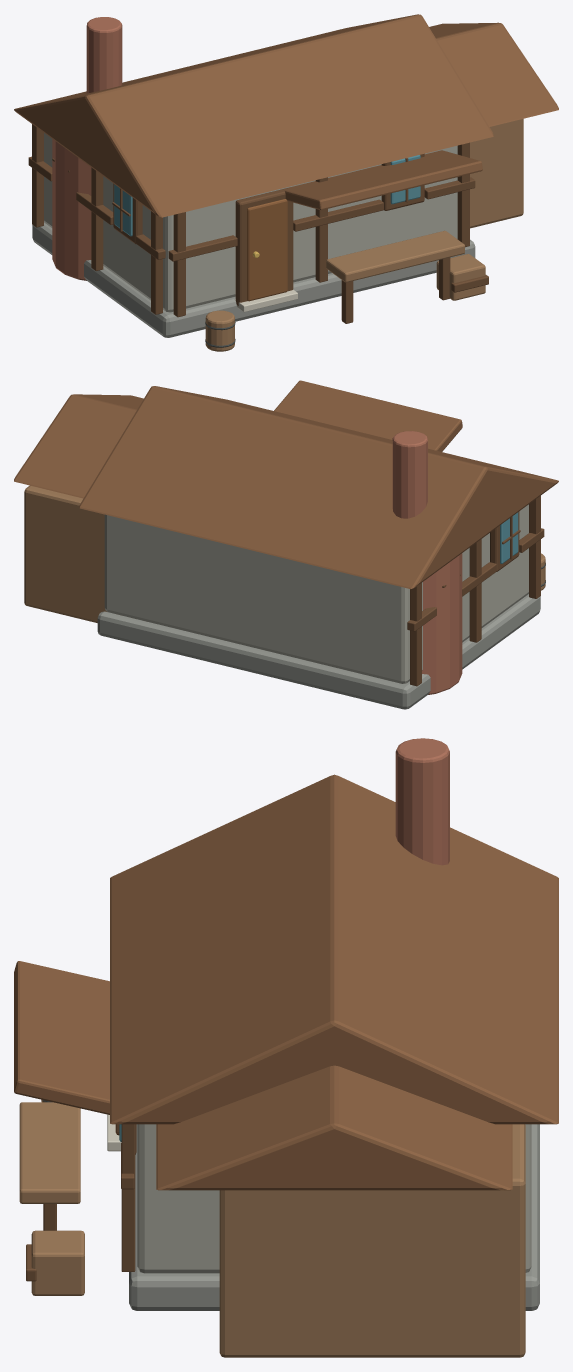
File: temperate-artisan-2.glb
3 renders of one model, top to bottom at view 1: azimuth 30°, elevation 25°; view 2: azimuth 150°, elevation 25°; view 3: azimuth 270°, elevation 25°, orthographic. The views are drawn at different scales.
Visible parts, largest first — view 1: Wood shingles, Fieldstone, Dark beams, Aged oak, Chimney brick, Foundation stone, Door oak, Blue glass, Cut limestone; view 2: Wood shingles, Fieldstone, Foundation stone, Aged oak, Chimney brick, Dark beams, Blue glass; view 3: Wood shingles, Aged oak, Fieldstone, Chimney brick, Foundation stone, Dark beams.
Boxes of the visible parts, box(x1,y1,x2,y2) form: Wood shingles: box(14, 14, 558, 217); Fieldstone: box(44, 133, 457, 312); Dark beams: box(28, 124, 488, 323); Aged oak: box(205, 119, 523, 351); Chimney brick: box(52, 17, 122, 280); Foundation stone: box(32, 222, 475, 337); Door oak: box(247, 199, 287, 301); Blue glass: box(114, 155, 420, 236); Cut limestone: box(234, 289, 297, 312); Wood shingles: box(14, 380, 558, 589); Fieldstone: box(104, 504, 528, 683); Foundation stone: box(97, 594, 540, 709); Aged oak: box(24, 485, 545, 622); Chimney brick: box(392, 431, 462, 694); Dark beams: box(407, 495, 544, 686); Blue glass: box(500, 512, 518, 563); Wood shingles: box(14, 774, 558, 1190); Aged oak: box(19, 1099, 525, 1357); Fieldstone: box(137, 1124, 531, 1273); Chimney brick: box(395, 738, 449, 865); Foundation stone: box(129, 1124, 539, 1310); Dark beams: box(26, 1124, 136, 1281).
Bounding box in the file's own units: 5.38 × 2.93 × 4.01.
